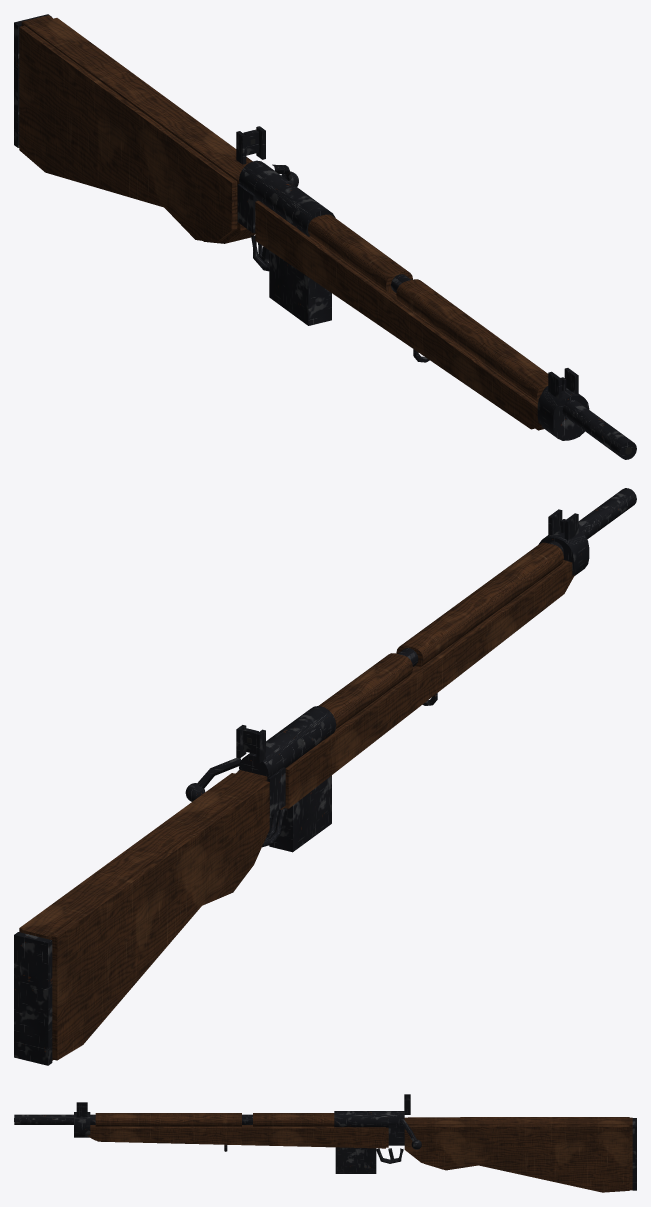
The model's file is enfield.glb.
The picture shows the model from 3 angles, top to bottom: view 1: azimuth 30°, elevation 25°; view 2: azimuth 150°, elevation 25°; view 3: azimuth 270°, elevation 25°; orthographic projection. The views are drawn at different scales.
Parts seen in each view (by area): view 1: Lee_Enfield_No4; view 2: Lee_Enfield_No4; view 3: Lee_Enfield_No4.
Part boxes in pixels (x1,y1,x2,y2): Lee_Enfield_No4: (14, 14, 636, 459); Lee_Enfield_No4: (14, 488, 636, 1065); Lee_Enfield_No4: (14, 1094, 636, 1192).
Bounding box in the file's own units: 0.0825 × 0.186 × 1.15.
3 materials, 2 textured.
